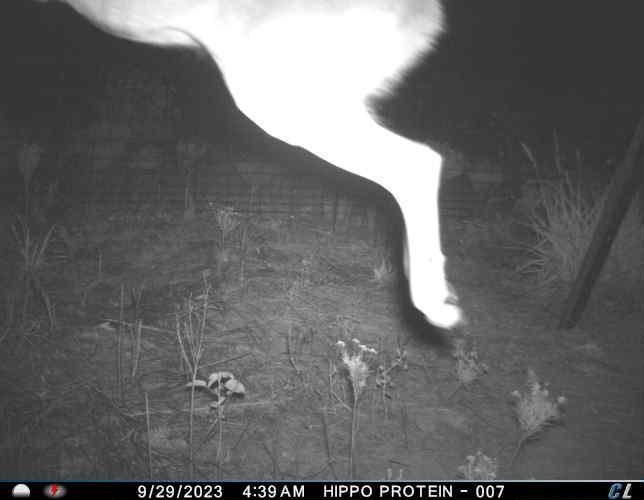Deer: (32, 1, 470, 327)
